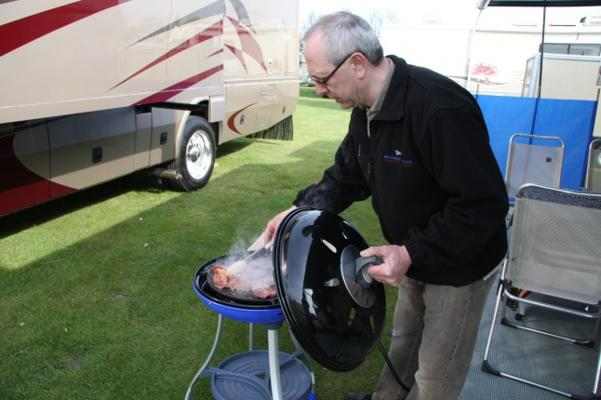person: (258, 11, 505, 400)
